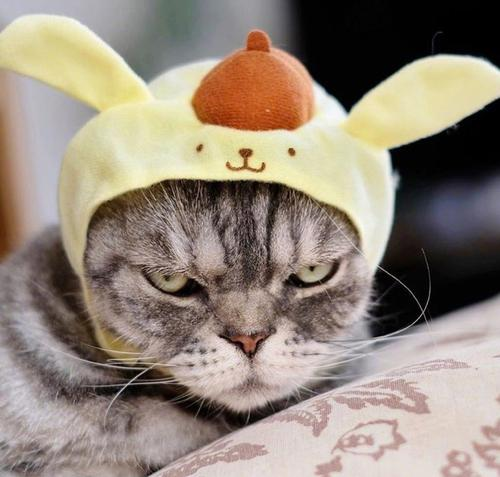cat: (45, 129, 424, 431)
